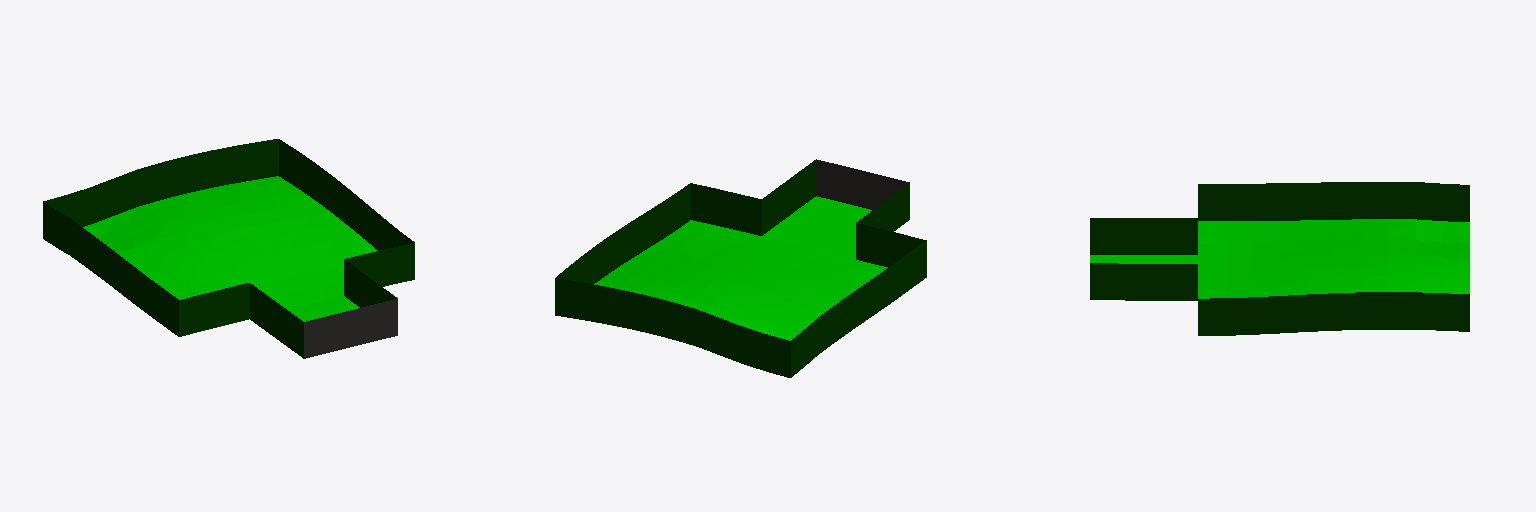
Rendered from garden_start.obj.
3 views of the same model, side by side, from view 1: azimuth 30°, elevation 25°; view 2: azimuth 150°, elevation 25°; view 3: azimuth 270°, elevation 25° (orthographic).
Visible parts, largest first — view 1: Grid; view 2: Grid; view 3: Grid.
Boxes of the visible parts, x1,y1,x2,y2 form: Grid: [43, 139, 414, 358]; Grid: [555, 159, 926, 377]; Grid: [1090, 182, 1469, 335].
Size of the model in its own units: 20 by 3.89 by 28.